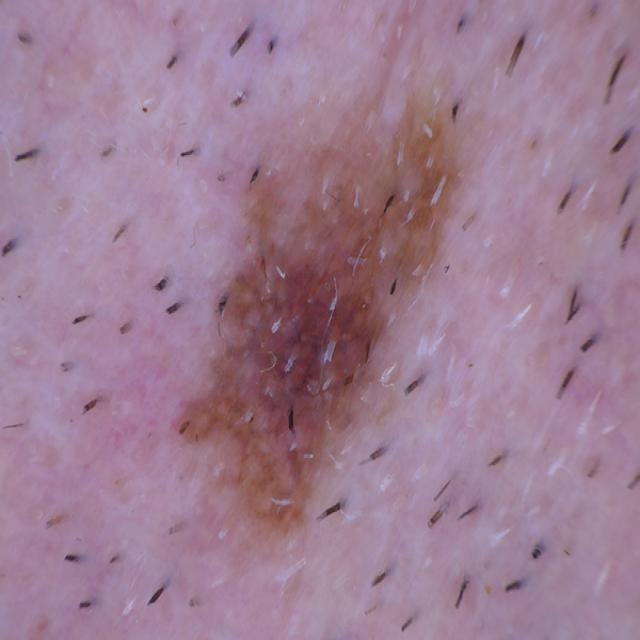MEL: (173, 73, 471, 559)
